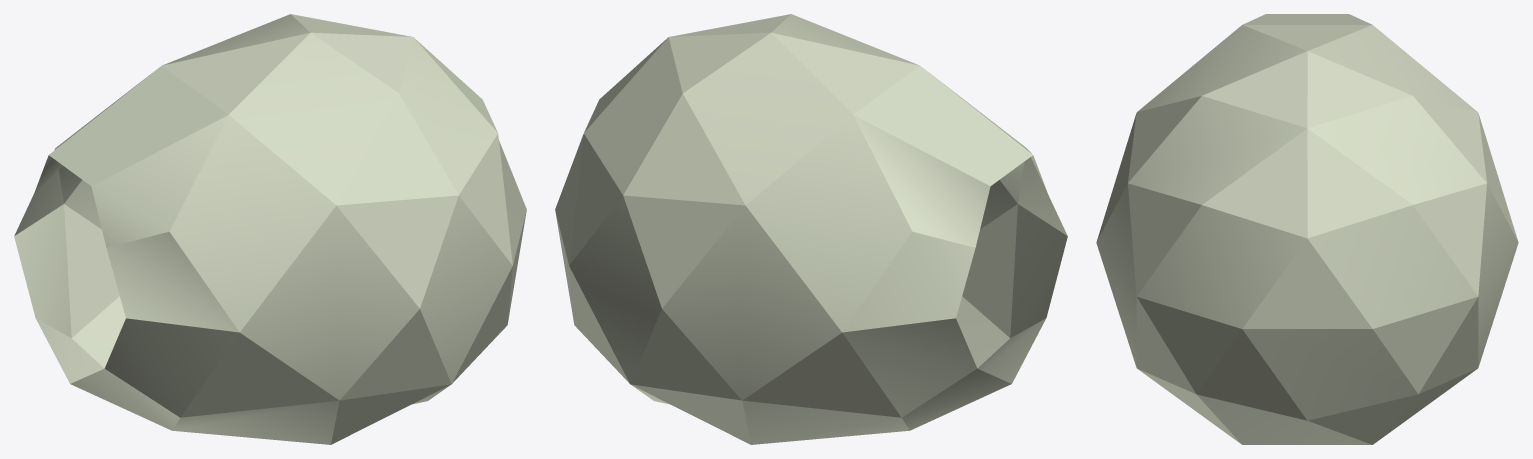
File: FrankBulb.fbx
3 views of the same model, side by side, from view 1: azimuth 30°, elevation 25°; view 2: azimuth 150°, elevation 25°; view 3: azimuth 270°, elevation 25° (orthographic). The views are drawn at different scales.
Parts seen in each view (by area): view 1: FrankBulb; view 2: FrankBulb; view 3: FrankBulb.
Part boxes in pixels (box(x1,y1,x2,y2)): FrankBulb: box(14, 14, 526, 444); FrankBulb: box(555, 14, 1067, 444); FrankBulb: box(1096, 14, 1518, 444).
Bounding box in the file's own units: 45.36 × 40.31 × 40.31.
